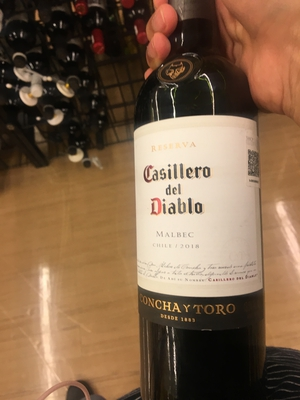casillero del diablo malbec: (127, 6, 270, 396)
